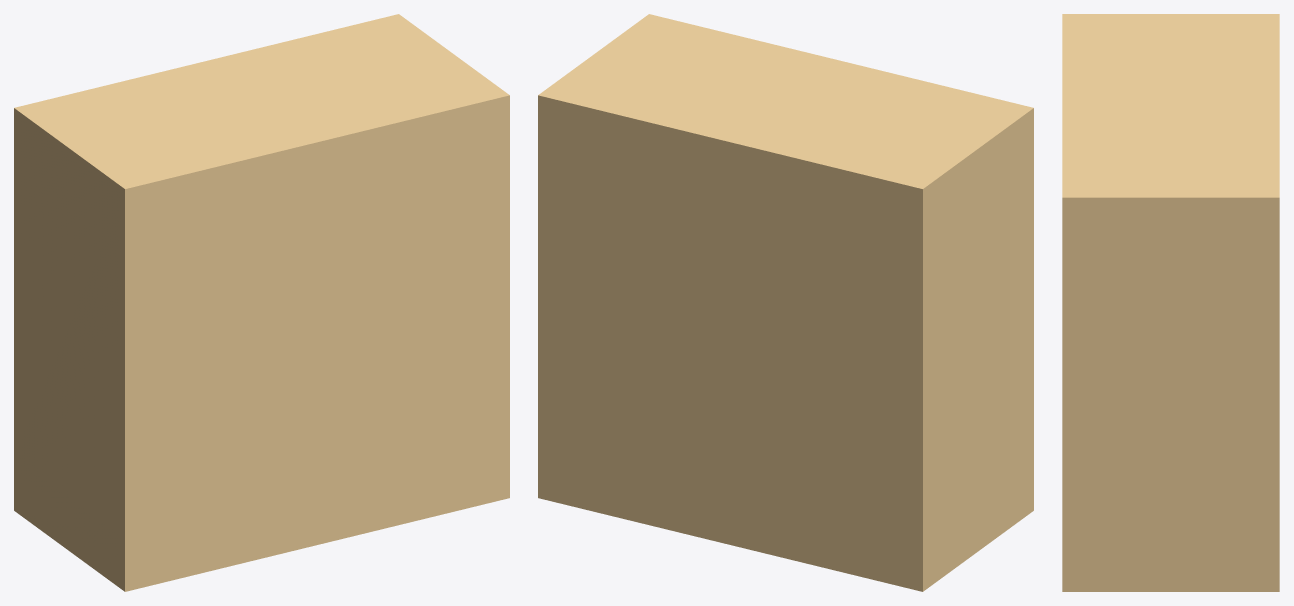
File: wall_2.fbx
3 views of the same model, side by side, from view 1: azimuth 30°, elevation 25°; view 2: azimuth 150°, elevation 25°; view 3: azimuth 270°, elevation 25° (orthographic). The views are drawn at different scales.
Parts seen in each view (by area): view 1: mesh_WallBrick.002; view 2: mesh_WallBrick.002; view 3: mesh_WallBrick.002.
Boxes of the visible parts, <box> form: mesh_WallBrick.002: <box>14,14,509,591</box>; mesh_WallBrick.002: <box>538,14,1033,591</box>; mesh_WallBrick.002: <box>1062,14,1279,591</box>.
Size of the model in its own units: 1 by 1 by 0.5.
